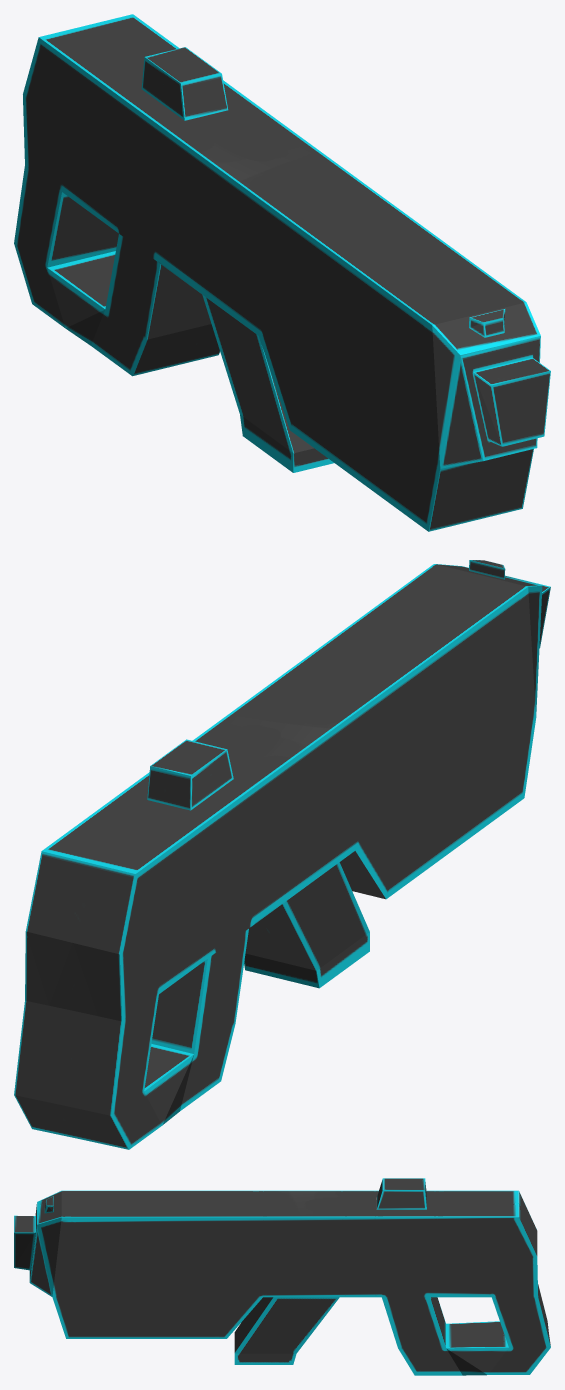
File: riffle.fbx
The picture shows the model from 3 angles, top to bottom: view 1: azimuth 30°, elevation 25°; view 2: azimuth 150°, elevation 25°; view 3: azimuth 270°, elevation 25°; orthographic projection. The views are drawn at different scales.
Visible parts, largest first — view 1: riffle; view 2: riffle; view 3: riffle.
Part boxes in pixels (x1,y1,x2,y2): riffle: [14, 14, 550, 531]; riffle: [14, 560, 550, 1149]; riffle: [14, 1178, 550, 1375].
Bounding box in the file's own units: 88 × 274 × 747.
